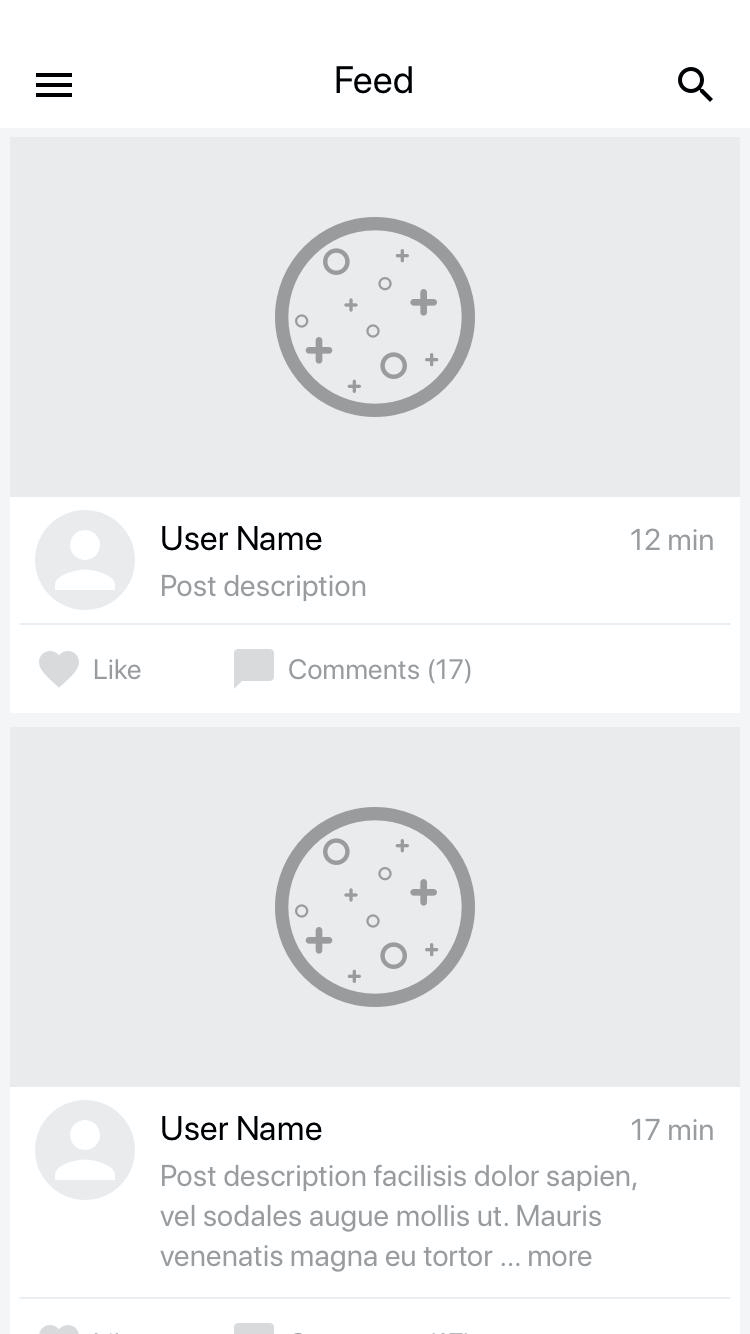Card: (9, 137, 742, 716)
Icon: (36, 509, 136, 611), (36, 1099, 137, 1199), (234, 649, 275, 688), (39, 650, 80, 688), (677, 67, 714, 103), (36, 73, 74, 99)
Image: (11, 138, 740, 498), (12, 728, 740, 1088)
Text: (160, 1163, 641, 1273), (161, 574, 366, 602), (289, 657, 472, 685), (162, 1114, 323, 1143), (161, 526, 323, 552), (335, 66, 413, 95), (631, 1117, 714, 1141), (630, 528, 714, 551), (95, 658, 142, 680)
